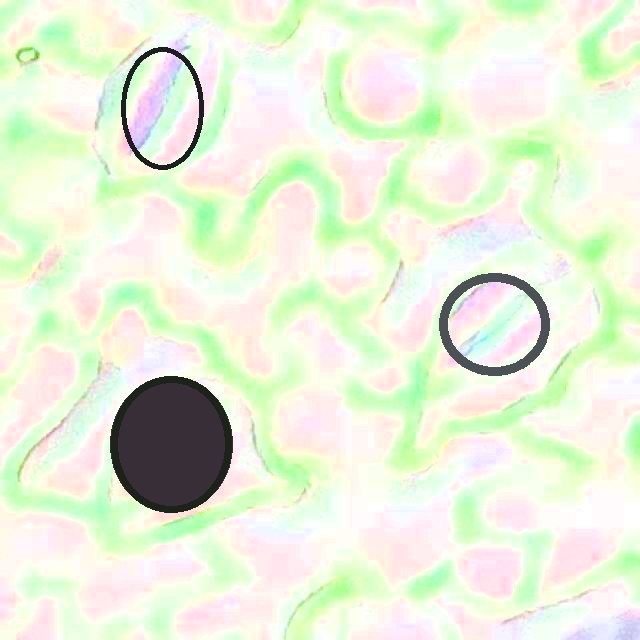close: (110, 375, 232, 512)
open: (439, 272, 549, 376), (119, 46, 204, 169)
